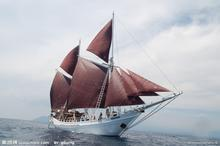fanchuan: (44, 9, 186, 137)
